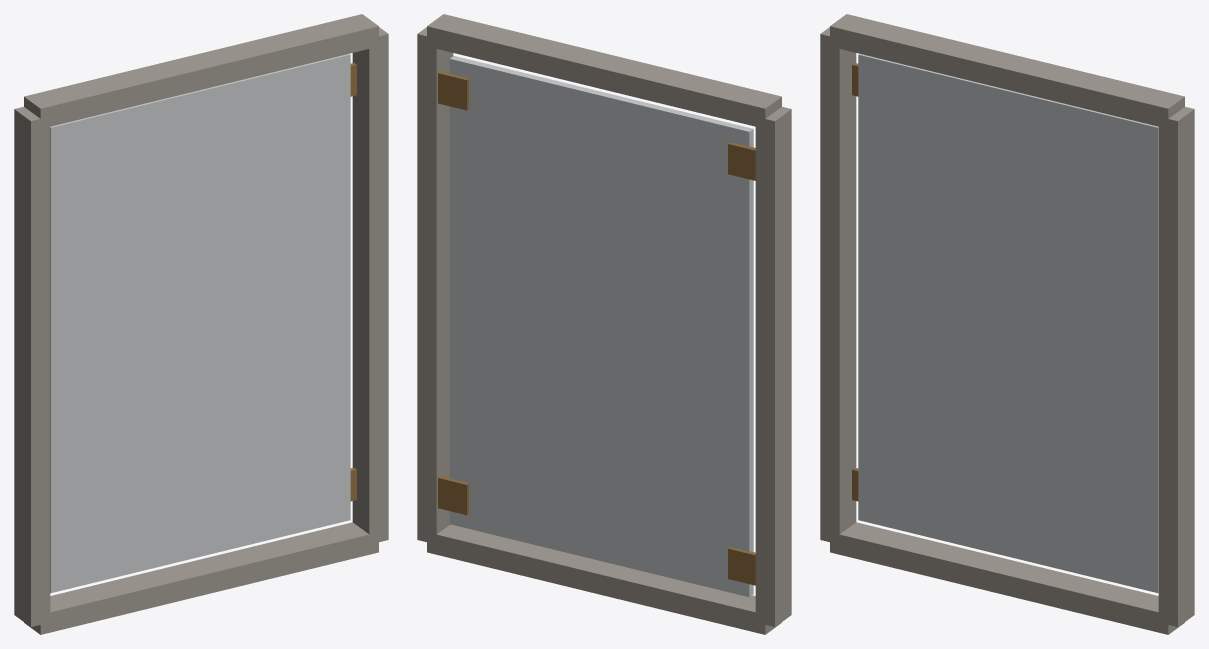
The model's file is prop_mirror.fbx.
3 renders of one model, left to right at view 1: azimuth 30°, elevation 25°; view 2: azimuth 150°, elevation 25°; view 3: azimuth 330°, elevation 25°, orthographic.
Parts seen in each view (by area): view 1: Mir_Glass, Mir_Frame_L, Mir_Frame_R, Mir_Frame_T, Mir_Frame_B; view 2: Mir_Glass, Mir_Frame_L, Mir_Frame_R, Mir_Frame_T, Mir_Frame_B, Mir_Rust0.30.4, Mir_Rust0.3-0.4, Mir_Rust-0.3-0.4, Mir_Rust-0.30.4; view 3: Mir_Glass, Mir_Frame_R, Mir_Frame_L, Mir_Frame_T, Mir_Frame_B.
Boxes of the visible parts, left/top/right/bottom form: Mir_Glass: left=50, top=54, right=350, bottom=592; Mir_Frame_L: left=14, top=106, right=50, bottom=626; Mir_Frame_R: left=352, top=27, right=388, bottom=544; Mir_Frame_T: left=24, top=14, right=378, bottom=128; Mir_Frame_B: left=24, top=522, right=378, bottom=634; Mir_Glass: left=449, top=56, right=753, bottom=597; Mir_Frame_L: left=755, top=106, right=791, bottom=626; Mir_Frame_R: left=417, top=27, right=453, bottom=542; Mir_Frame_T: left=427, top=14, right=781, bottom=126; Mir_Frame_B: left=427, top=524, right=781, bottom=634; Mir_Rust0.30.4: left=438, top=71, right=468, bottom=110; Mir_Rust0.3-0.4: left=438, top=476, right=468, bottom=515; Mir_Rust-0.3-0.4: left=728, top=547, right=755, bottom=585; Mir_Rust-0.30.4: left=728, top=142, right=755, bottom=180; Mir_Glass: left=858, top=54, right=1158, bottom=592; Mir_Frame_R: left=1158, top=106, right=1194, bottom=626; Mir_Frame_L: left=820, top=27, right=856, bottom=544; Mir_Frame_T: left=830, top=14, right=1184, bottom=128; Mir_Frame_B: left=830, top=522, right=1184, bottom=634.
Bounding box in the file's own units: 74 × 104 × 6.
